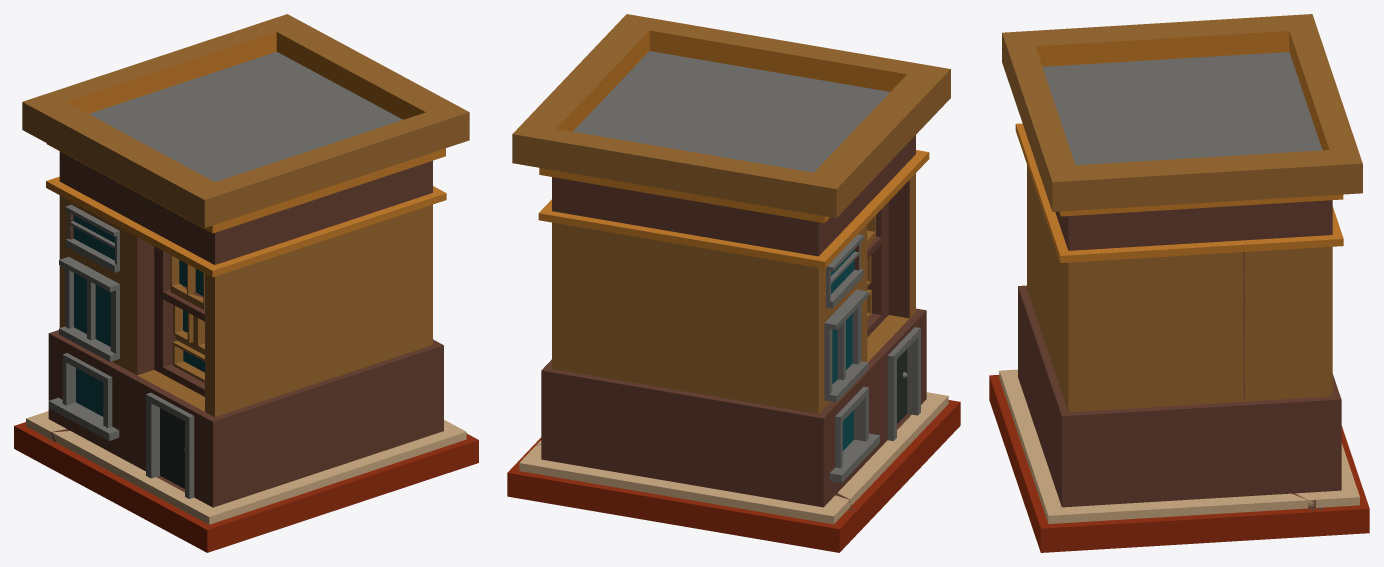
The model's file is Gedung2.glb.
The picture shows the model from 3 angles, left to right: view 1: azimuth 30°, elevation 25°; view 2: azimuth 150°, elevation 25°; view 3: azimuth 270°, elevation 25°; orthographic projection. The views are drawn at different scales.
Parts seen in each view (by area): view 1: env 3.003; view 2: env 3.003; view 3: env 3.003.
Boxes of the visible parts, x1,y1,x2,y2 form: env 3.003: (14,14,478,552); env 3.003: (507,14,960,552); env 3.003: (989,14,1369,552).
Bounding box in the file's own units: 11.4 × 11.32 × 10.59.
